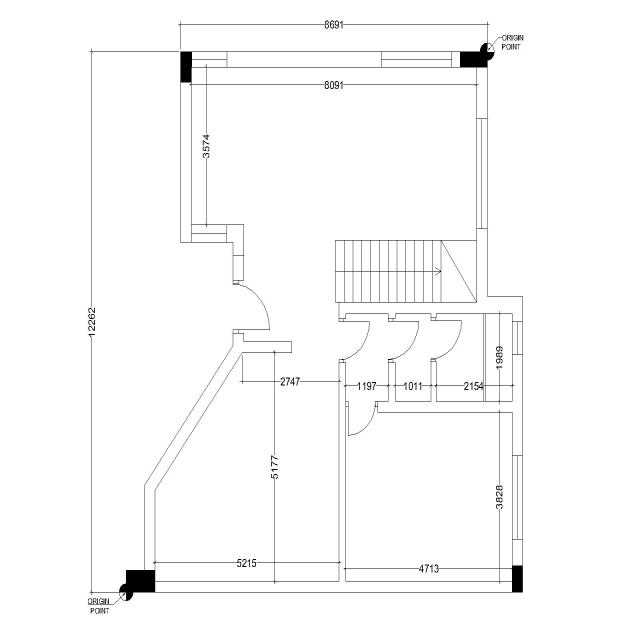Column: (126, 570, 155, 592), (460, 52, 488, 68), (180, 52, 192, 82), (512, 566, 523, 592)
Door: (233, 280, 270, 334), (388, 318, 419, 363), (339, 319, 370, 363), (431, 318, 462, 362), (346, 401, 378, 436)
Staircase: (334, 240, 476, 302)
Window: (477, 119, 488, 229), (381, 52, 452, 68), (512, 456, 523, 540), (191, 225, 227, 242), (192, 52, 227, 68), (512, 321, 523, 355)
